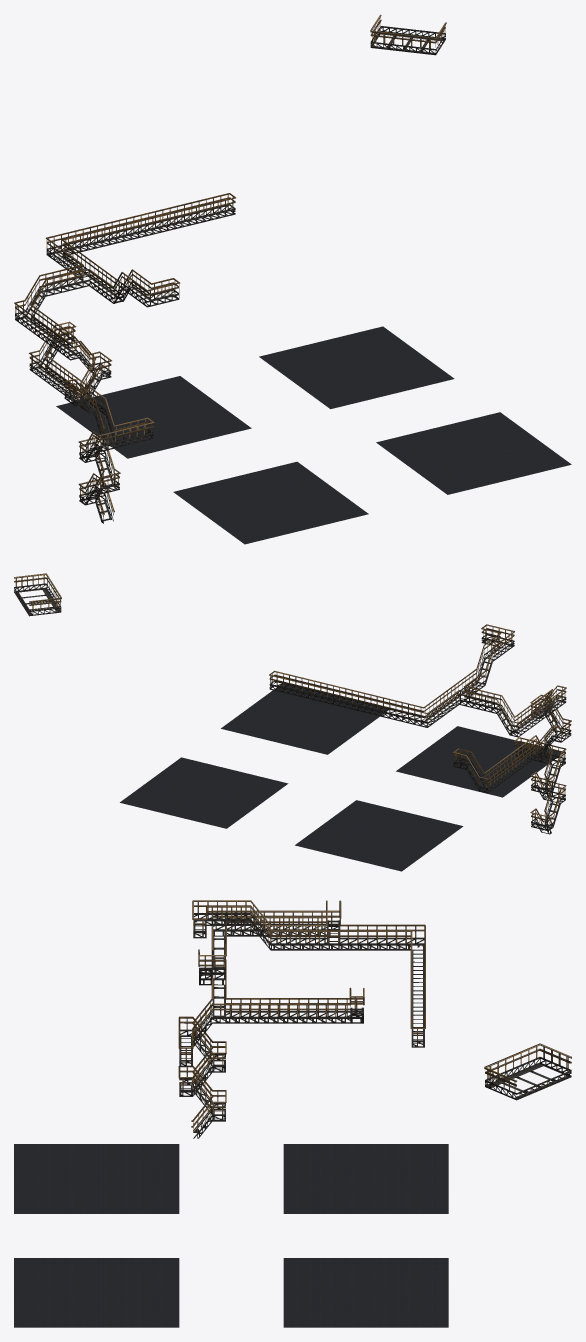
File: Factory_langan.FBX
The picture shows the model from 3 angles, top to bottom: view 1: azimuth 30°, elevation 25°; view 2: azimuth 150°, elevation 25°; view 3: azimuth 270°, elevation 25°; orthographic projection. The views are drawn at different scales.
Visible parts, largest first — view 1: Object001; view 2: Object001; view 3: Object001.
Boxes of the visible parts, box(x1,y1,x2,y2) form: Object001: box(14, 14, 571, 544); Object001: box(14, 573, 571, 871); Object001: box(14, 900, 571, 1327).
Size of the model in its own units: 50.14 by 41.41 by 26.52.
